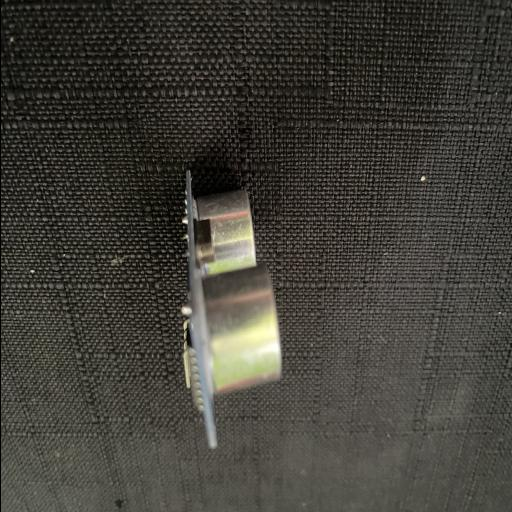Ultrasonic Sensor: (180, 170, 282, 448)
